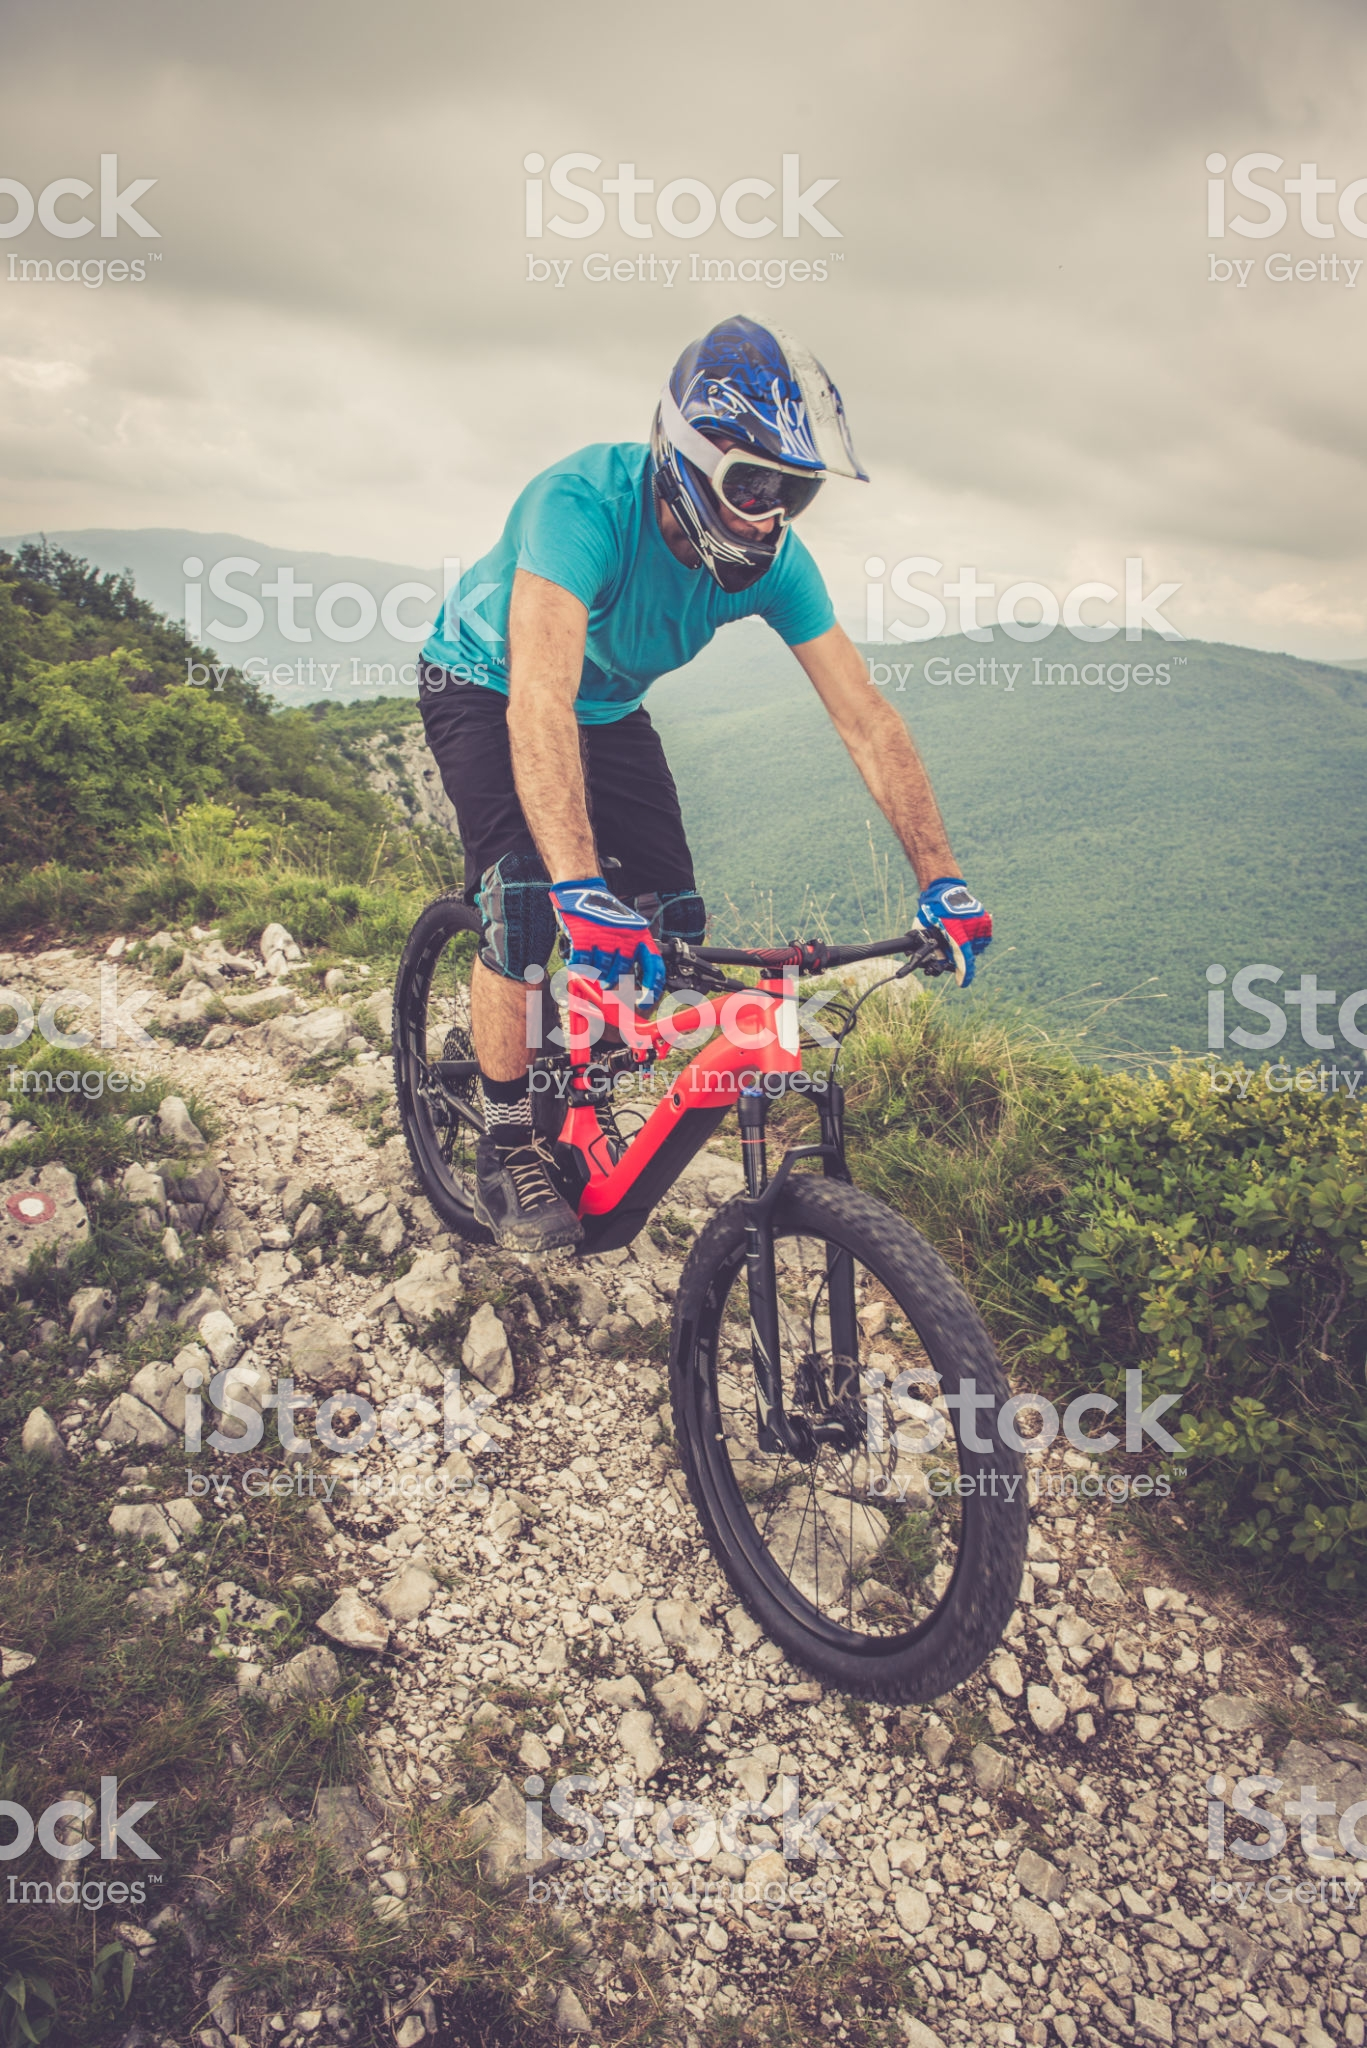helmet: (642, 288, 880, 625)
